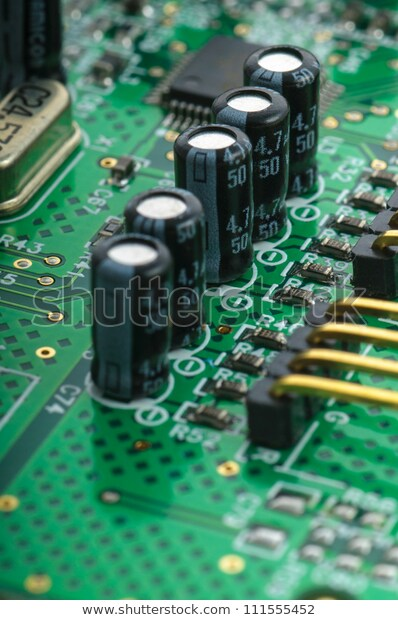capacitor: (92, 233, 171, 405), (173, 124, 251, 192), (126, 188, 205, 238), (244, 44, 322, 88), (214, 86, 291, 126)
